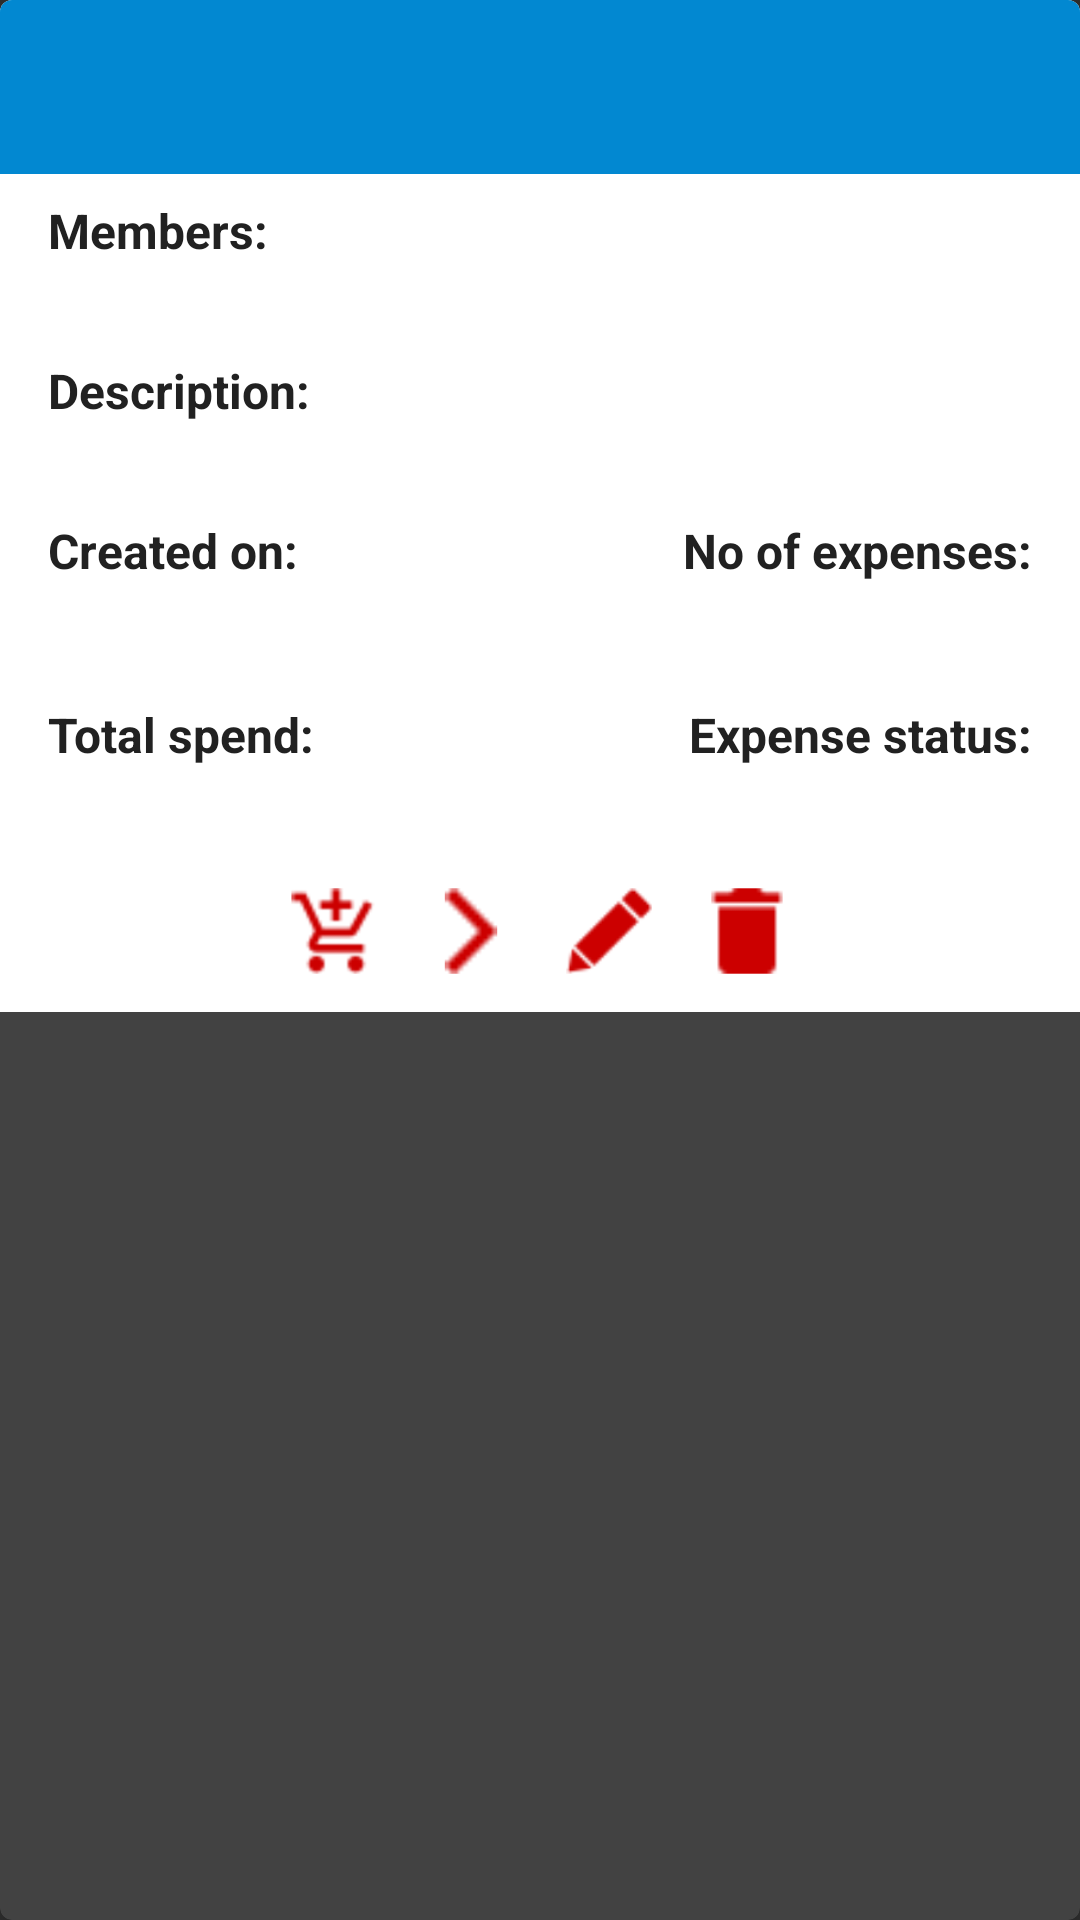

Screen size 1080x1920. Icon name, then its center in pixels as point (x, y):
delete: point (747, 931)
edit account details: point (609, 931)
